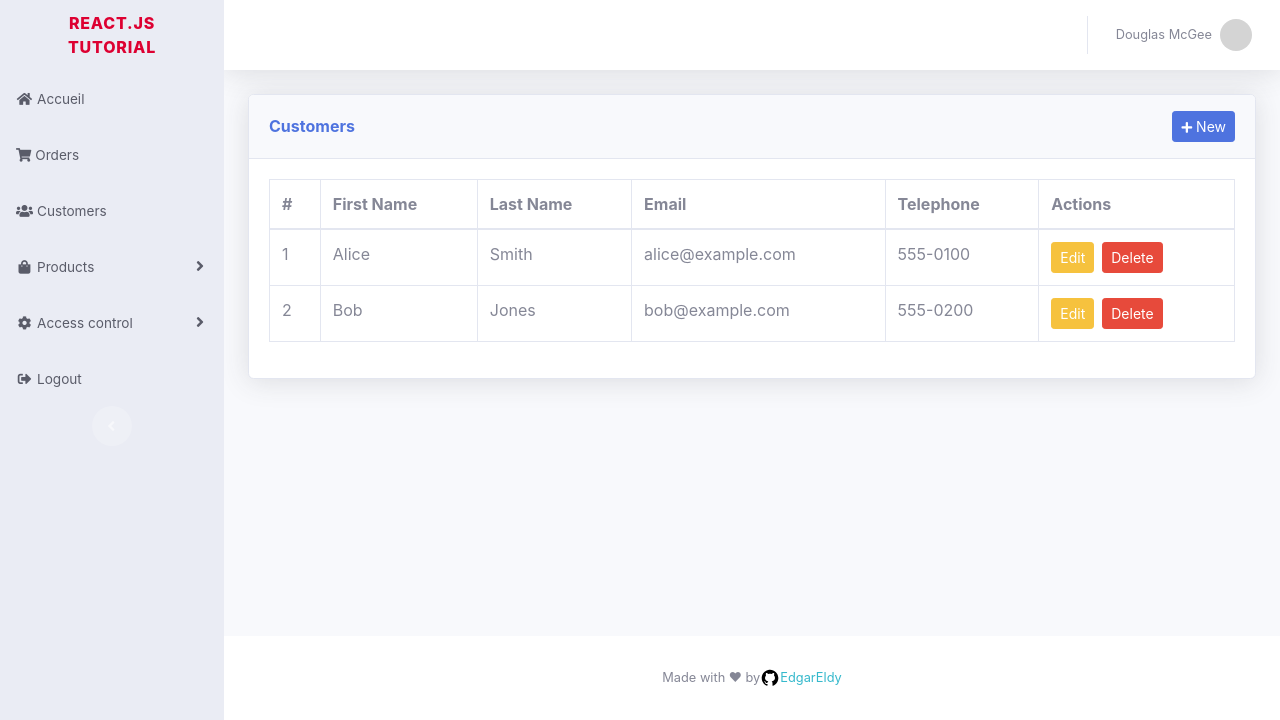
Scenario: Customers CRUD › creates a new customer
Click the button "New" at (1204, 127), box [1172, 111, 1235, 142]
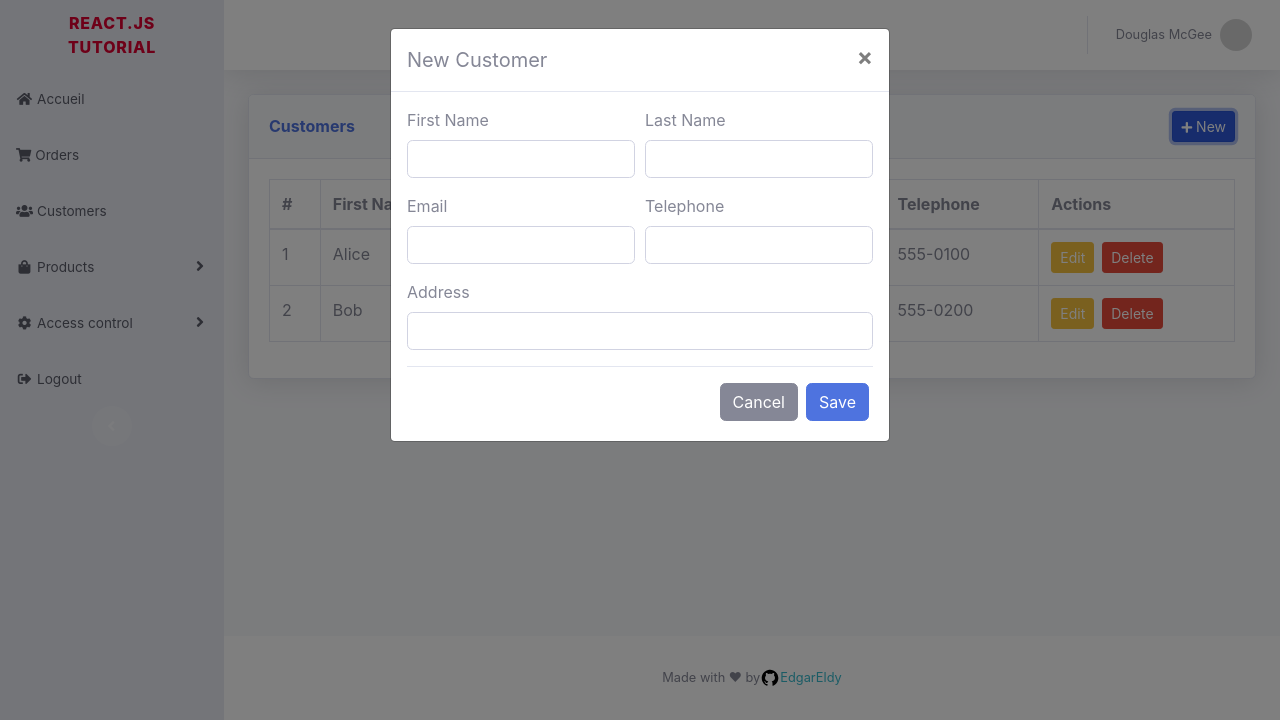
Type "Carol" into the field with id "firstName" at (521, 159), box [407, 140, 635, 178]
Type "White" into the field with id "lastName" at (759, 159), box [645, 140, 873, 178]
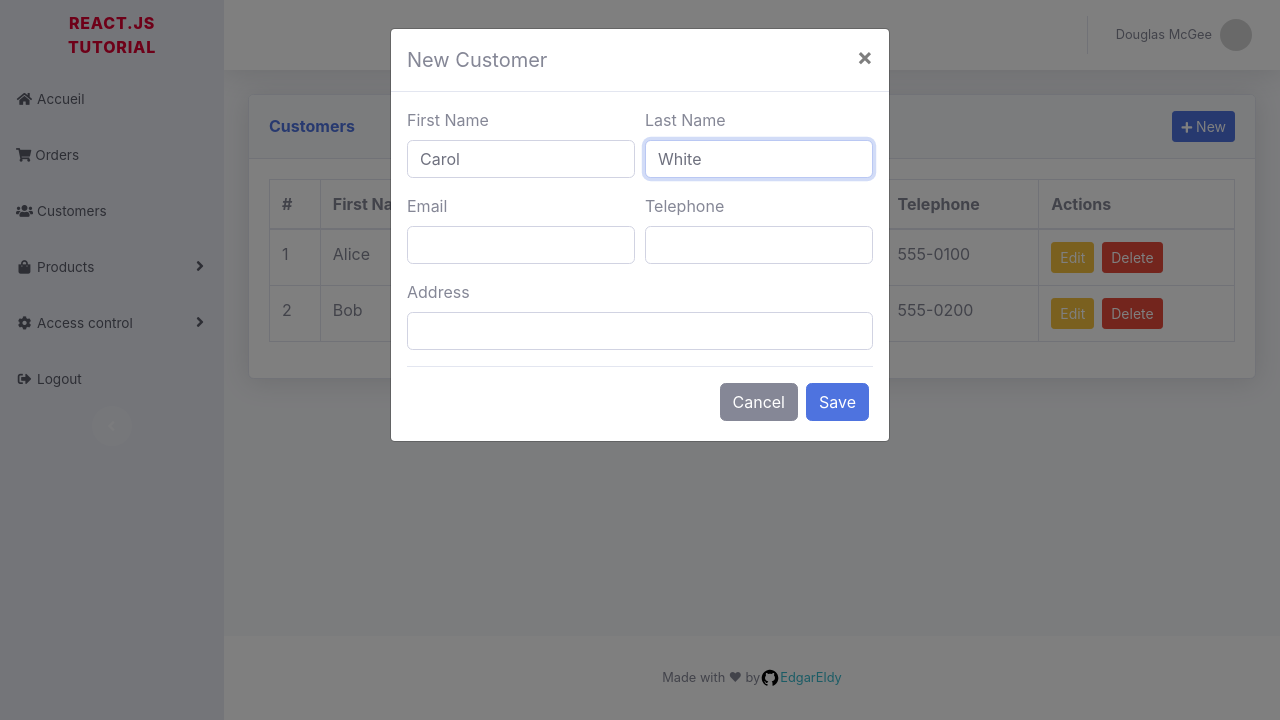
Type "carol@example.com" into the field with id "email" at (521, 245), box [407, 226, 635, 264]
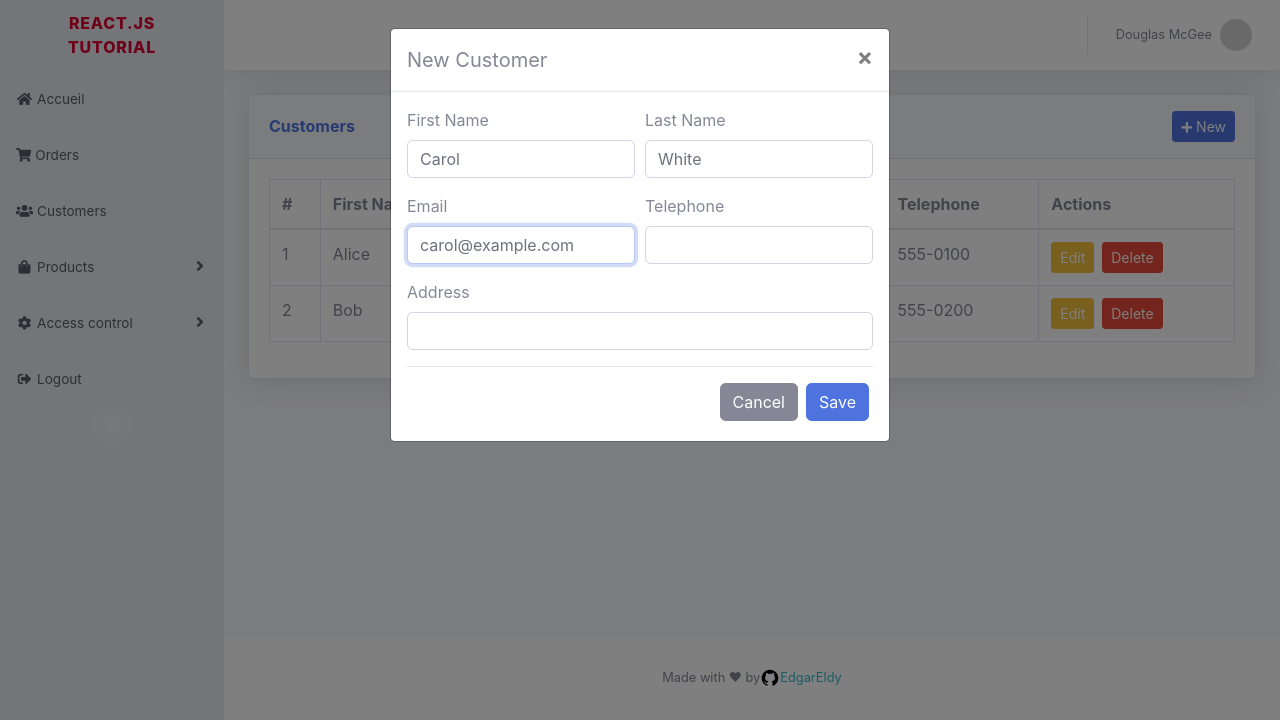
Type "555-0300" into the field with id "telephone" at (759, 245), box [645, 226, 873, 264]
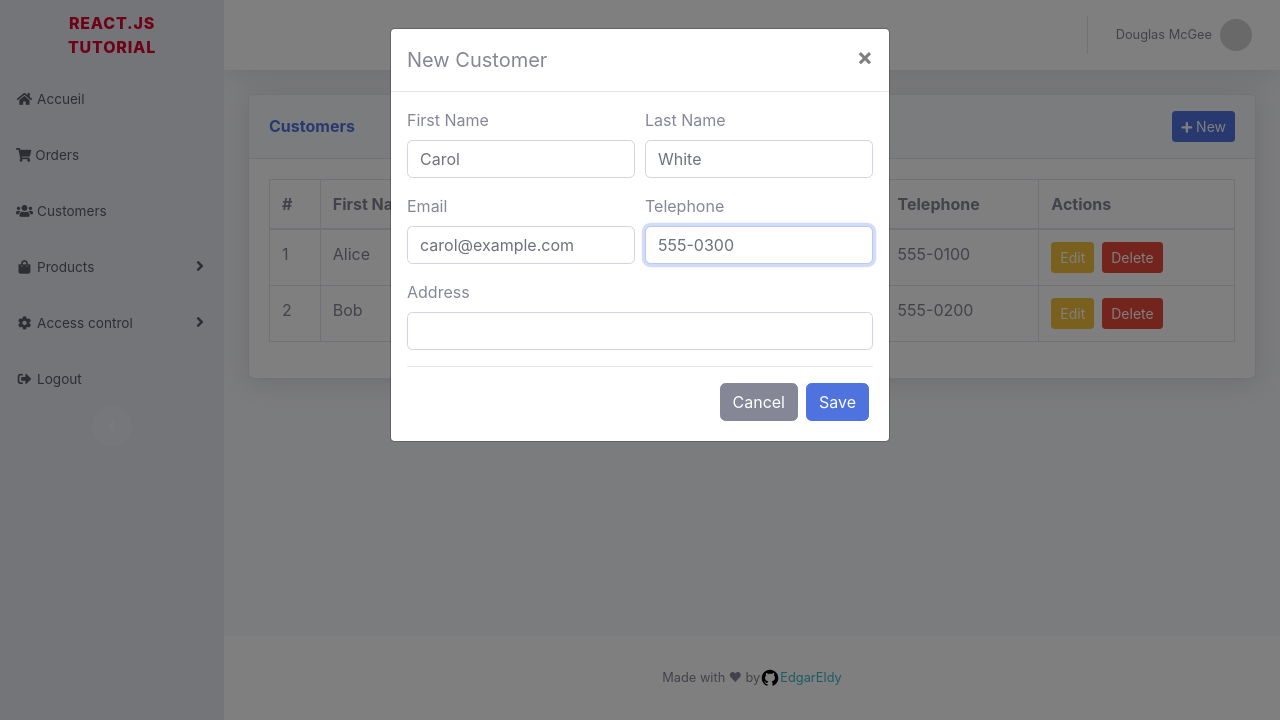
Type "3 Main St" into the field with id "address" at (640, 331), box [407, 312, 873, 350]
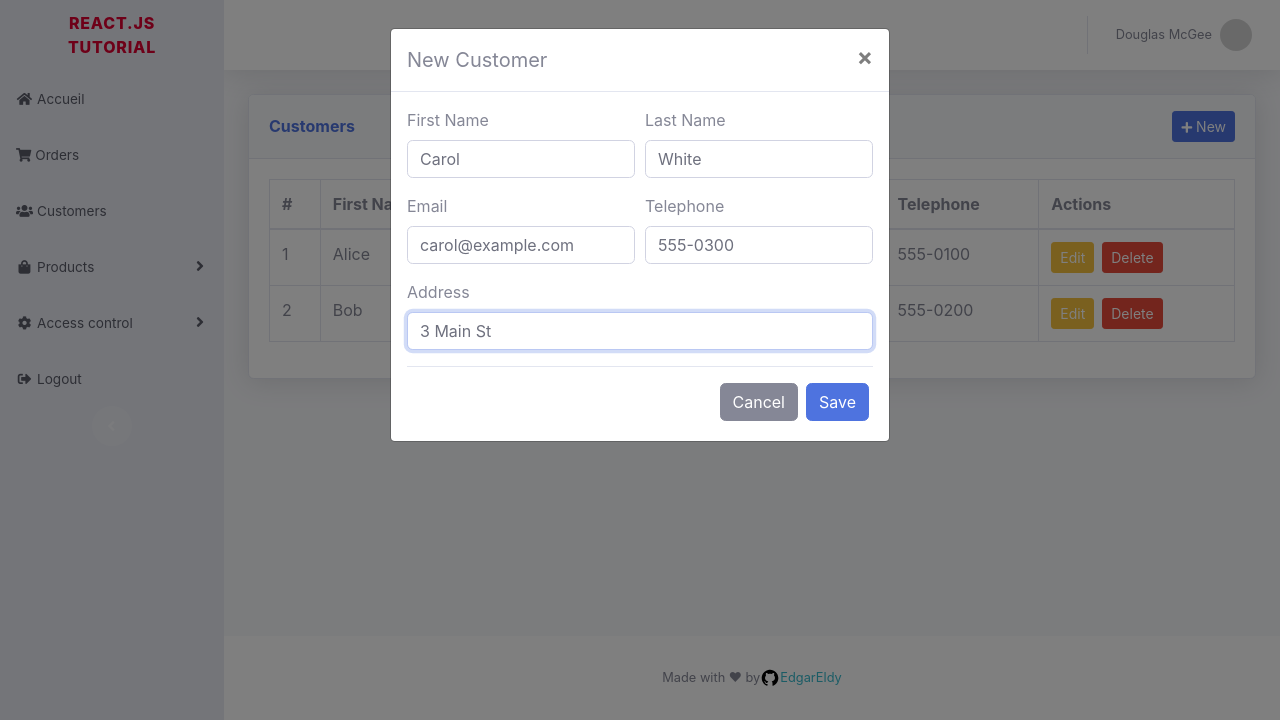
Click the button "Save" at (838, 402), box [806, 383, 869, 421]
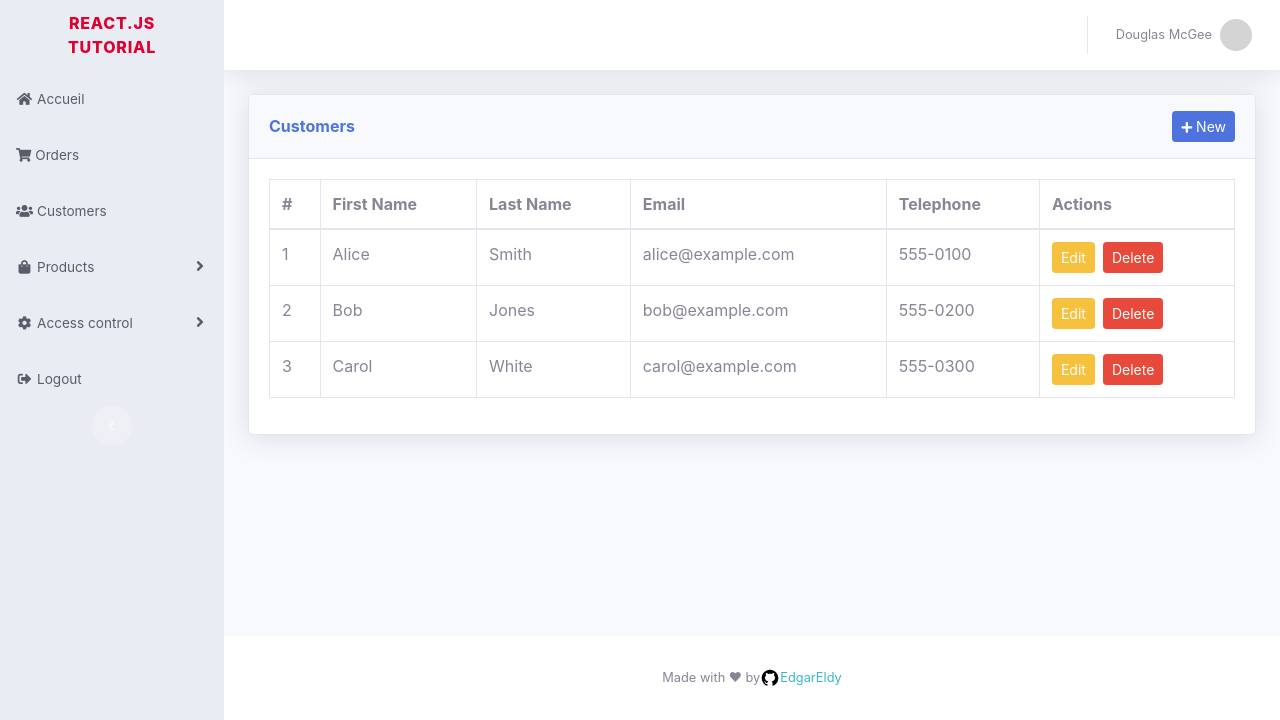
Check: the text "Carol" is shown, box [320, 342, 477, 398]
